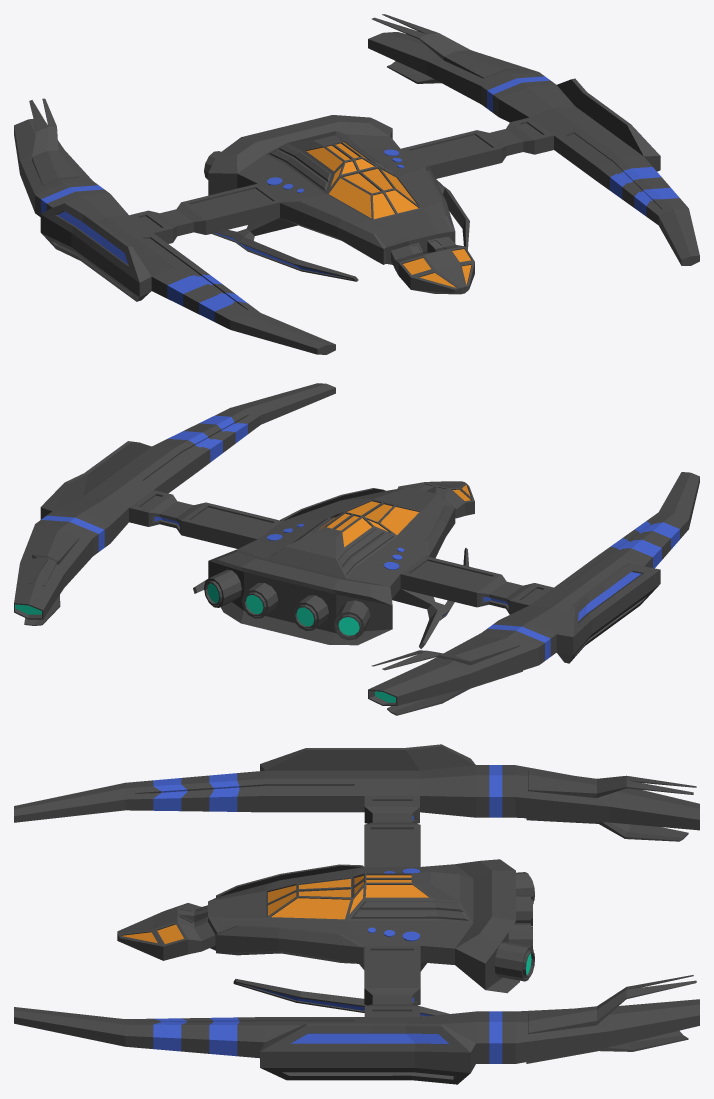
File: ship.fbx
3 views of the same model, one above another, from view 1: azimuth 30°, elevation 25°; view 2: azimuth 150°, elevation 25°; view 3: azimuth 270°, elevation 25° (orthographic). The views are drawn at different scales.
Parts seen in each view (by area): view 1: Ship; view 2: Ship; view 3: Ship.
Part boxes in pixels (<box>): Ship: <box>14,14,699,354</box>; Ship: <box>14,383,699,715</box>; Ship: <box>14,744,699,1084</box>.
Bounding box in the file's own units: 1498 × 200 × 1477.
